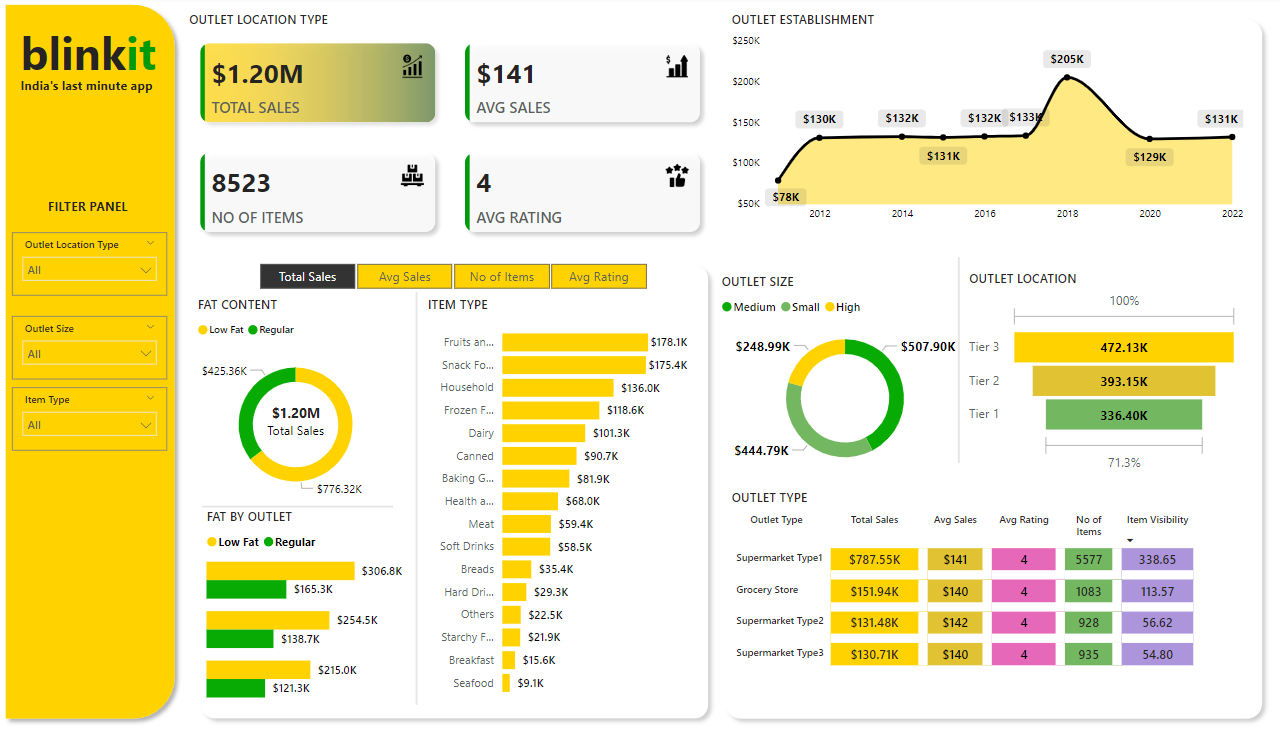

What the dashboard file says about the page in this screenshot:
{"tool":"powerbi","page":{"name":"Page 1","canvas":[1400,800],"ordinal":0},"visuals":[{"type":"shape","box":[0,0,199.7,784.2],"z":0},{"type":"textbox","box":[19.4,22.2,168.1,75],"z":1000},{"type":"textbox","box":[19.4,81.9,162.5,30.6],"z":2000},{"type":"cardVisual","title":"OUTLET LOCATION TYPE","fields":{"Data":["BlinkIT Grocery Data.Total Sales","BlinkIT Grocery Data.Avg Sales","BlinkIT Grocery Data.No of Items","BlinkIT Grocery Data.Avg Rating"]},"box":[201.1,16.1,571,254.7],"z":3000},{"type":"shape","box":[210.5,280.6,561.2,503.6],"z":4000},{"type":"donutChart","title":"FAT CONTENT","fields":{"Y":["BlinkIT Grocery Data.Total Sales"],"Category":["BlinkIT Grocery Data.Item Fat Content"]},"box":[210.5,321.2,219.8,230.7],"z":5000},{"type":"slicer","fields":{"Values":["Metrics.Metrics"]},"box":[255.7,280.6,464.6,40.5],"z":6000},{"type":"cardVisual","fields":{"Data":["BlinkIT Grocery Data.Total Sales"]},"box":[261.9,419.4,118.5,63.9],"z":7000},{"type":"clusteredBarChart","title":"FAT BY OUTLET","fields":{"Y":["BlinkIT Grocery Data.Total Sales"],"Category":["BlinkIT Grocery Data.Outlet Location Type"],"Series":["BlinkIT Grocery Data.Item Fat Content"]},"box":[219.8,548.8,219.8,212],"z":8000},{"type":"shape","box":[1089.8,403.8,205.8,15.6],"z":9000},{"type":"shape","box":[220.5,540.8,205.1,14.7],"z":10000},{"type":"shape","box":[444.3,318,12.5,442.8],"z":11000},{"type":"barChart","title":"ITEM TYPE","fields":{"Y":["BlinkIT Grocery Data.Total Sales"],"Category":["BlinkIT Grocery Data.Item Type"]},"box":[456.8,321.2,288.4,439.6],"z":12000},{"type":"shape","box":[772.1,16.1,593.8,768.1],"z":13000},{"type":"lineChart","title":"OUTLET ESTABLISHMENT","fields":{"Y":["BlinkIT Grocery Data.Total Sales"],"Category":["BlinkIT Grocery Data.Outlet Establishment Year"]},"box":[782.8,16.1,559,234.6],"z":14000},{"type":"donutChart","title":"OUTLET SIZE","fields":{"Y":["BlinkIT Grocery Data.Total Sales"],"Category":["BlinkIT Grocery Data.Outlet Size"]},"box":[772.1,296.2,275,225],"z":15000},{"type":"shape","box":[1025.5,280.2,12.1,221.2],"z":16000},{"type":"funnel","title":"OUTLET LOCATION","fields":{"Y":["Sum(BlinkIT Grocery Data.Sales)"],"Category":["BlinkIT Grocery Data.Outlet Location Type"]},"box":[1037.5,293.6,298.9,221.2],"z":17000},{"type":"pivotTable","title":"OUTLET TYPE","fields":{"Rows":["BlinkIT Grocery Data.Outlet Type"],"Values":["BlinkIT Grocery Data.Total Sales","BlinkIT Grocery Data.Avg Sales","BlinkIT Grocery Data.Avg Rating","BlinkIT Grocery Data.No of Items","Sum(BlinkIT Grocery Data.Item Visibility)"]},"box":[782.8,528.2,568.4,231.9],"z":18000},{"type":"slicer","fields":{"Values":["BlinkIT Grocery Data.Outlet Location Type"]},"box":[16.1,253.4,166.2,68.4],"z":19000},{"type":"slicer","fields":{"Values":["BlinkIT Grocery Data.Outlet Size"]},"box":[16.1,343.2,166.2,68.4],"z":20000},{"type":"slicer","fields":{"Values":["BlinkIT Grocery Data.Item Type"]},"box":[16.1,419.6,166.2,68.4],"z":21000},{"type":"textbox","box":[49.6,211.8,97.9,29.5],"z":22000}]}

Visuals, with their boxes in screenshot pixels (x1, y1, x2, y2), scaled from the page's 1400x800 canvas onto the 1281x741 screenshot:
shape: 0/0/183/726
textbox: 18/21/172/90
textbox: 18/76/166/104
"OUTLET LOCATION TYPE" cardVisual: 184/15/706/251
shape: 193/260/706/726
"FAT CONTENT" donutChart: 193/298/394/511
slicer - Metrics.Metrics: 234/260/659/297
cardVisual - BlinkIT Grocery Data.Total Sales: 240/388/348/448
"FAT BY OUTLET" clusteredBarChart: 201/508/402/705
shape: 997/374/1185/388
shape: 202/501/389/515
shape: 407/295/418/705
"ITEM TYPE" barChart: 418/298/682/705
shape: 706/15/1250/726
"OUTLET ESTABLISHMENT" lineChart: 716/15/1228/232
"OUTLET SIZE" donutChart: 706/274/958/483
shape: 938/260/949/464
"OUTLET LOCATION" funnel: 949/272/1223/477
"OUTLET TYPE" pivotTable: 716/489/1236/704
slicer - BlinkIT Grocery Data.Outlet Location Type: 15/235/167/298
slicer - BlinkIT Grocery Data.Outlet Size: 15/318/167/381
slicer - BlinkIT Grocery Data.Item Type: 15/389/167/452
textbox: 45/196/135/224
